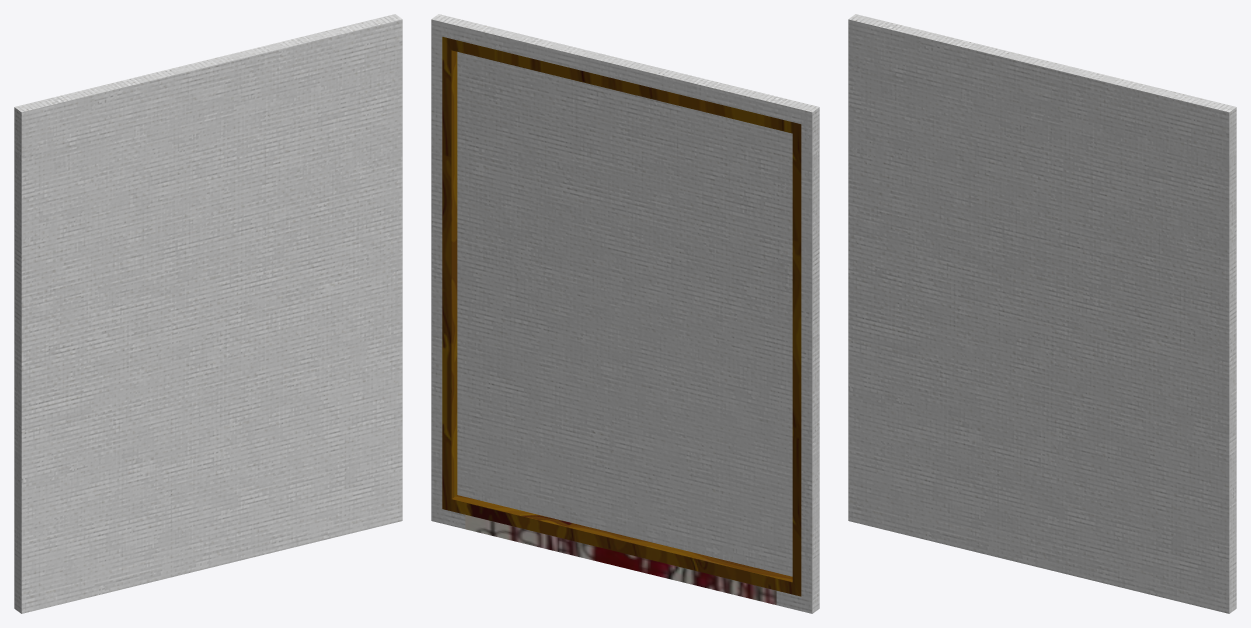
Rendered from painting-c1_dot40.glb.
3 views of the same model, side by side, from view 1: azimuth 30°, elevation 25°; view 2: azimuth 150°, elevation 25°; view 3: azimuth 330°, elevation 25° (orthographic).
Parts seen in each view (by area): view 1: painting_canvas.002; view 2: painting_canvas.002, painting_canvas.001; view 3: painting_canvas.002.
Boxes of the visible parts, x1,y1,x2,y2 form: painting_canvas.002: (14, 14, 402, 613); painting_canvas.002: (431, 14, 819, 613); painting_canvas.001: (442, 37, 801, 596); painting_canvas.002: (848, 14, 1236, 613).
Size of the model in its own units: 1.27 by 1.59 by 0.0424.
Materials: 2 (2 with a texture image).
